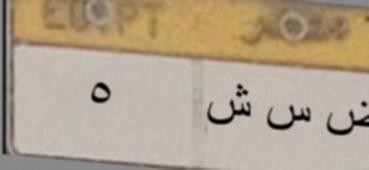5: (83, 74, 124, 114)
daad: (326, 99, 369, 142)
seen: (262, 99, 318, 142)
sheen: (207, 83, 258, 136)
